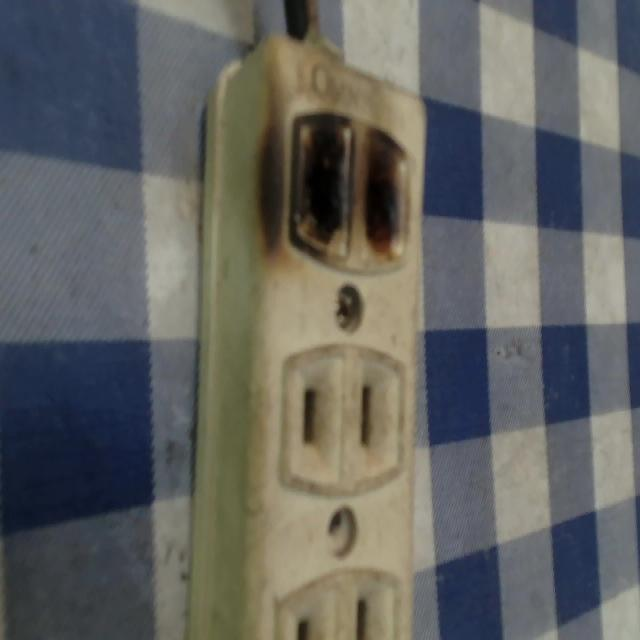-: (273, 97, 418, 276)
